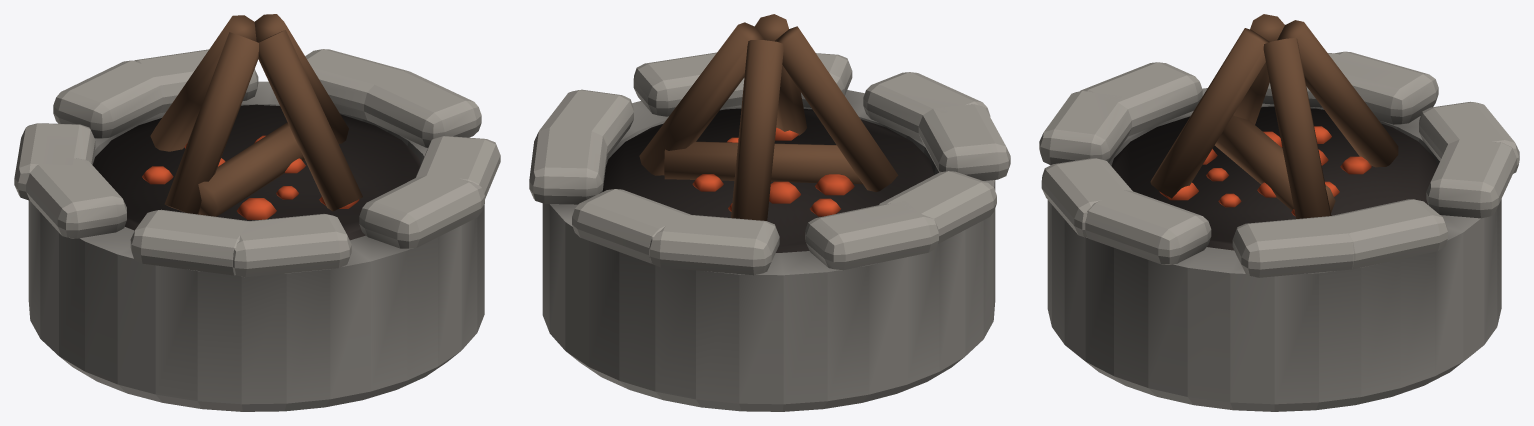
File: firePit.glb
3 renders of one model, left to right at view 1: azimuth 30°, elevation 25°; view 2: azimuth 150°, elevation 25°; view 3: azimuth 270°, elevation 25°, orthographic.
Parts seen in each view (by area): view 1: pit; view 2: pit; view 3: pit.
Part boxes in pixels (box(x1,y1,x2,y2)): pit: box(14, 14, 500, 411); pit: box(529, 14, 1010, 411); pit: box(1039, 14, 1519, 411).
Size of the model in its own units: 0.9266 by 0.6192 by 0.9098.
